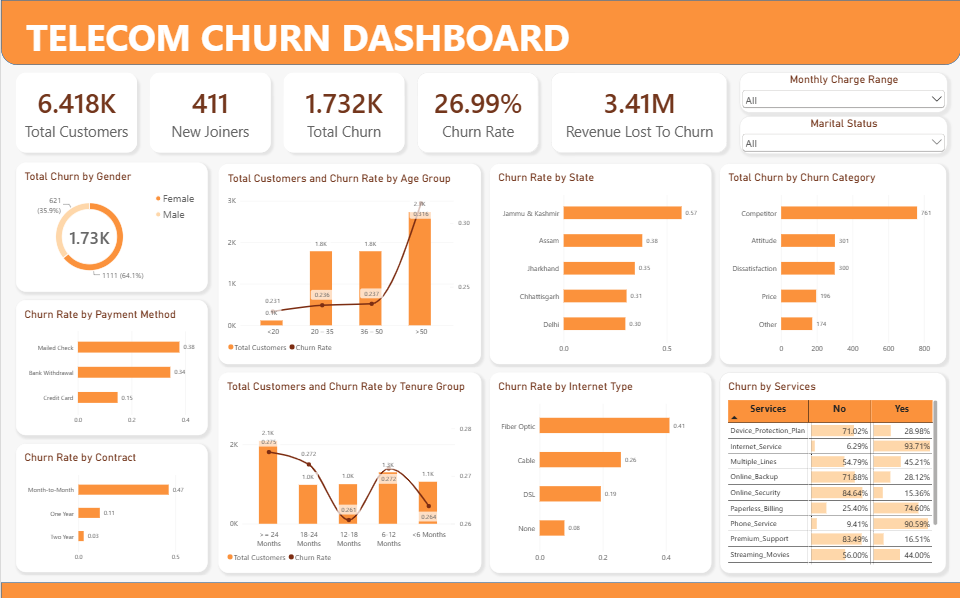

This screenshot's page, from the dashboard's own definition file:
{"tool":"powerbi","page":{"name":"Churn Summary","canvas":[1920,1200],"ordinal":0},"visuals":[{"type":"actionButton","box":[0,0,100,40],"z":0},{"type":"cardVisual","fields":{"Data":["Measures (2).New_Joiners"]},"box":[285,132.5,267,185],"z":1000},{"type":"cardVisual","fields":{"Data":["Measures (2).Total_Churn"]},"box":[552.5,132.5,267,185],"z":2000},{"type":"cardVisual","fields":{"Data":["Measures (2).Churn_Rate"]},"box":[820,132.5,267,185],"z":3000},{"type":"donutChart","fields":{"Category":["new_Churn.Gender"],"Y":["Measures (2).Total_Churn"]},"box":[30,325,383.3,258.3],"z":4000},{"type":"lineStackedColumnComboChart","fields":{"Category":["age_mapping.Age_Group"],"Y":["Measures (2).Total_Customers"],"Y2":["Measures (2).Churn_Rate"]},"box":[434.3,327.1,525,401],"z":5000},{"type":"clusteredBarChart","fields":{"Category":["new_Churn.Payment_Method"],"Y":["Measures (2).Churn_Rate"]},"box":[30,600,383,270],"z":6000},{"type":"lineStackedColumnComboChart","fields":{"Category":["tenure_mapping.Tenure_Group"],"Y":["Measures (2).Total_Customers"],"Y2":["Measures (2).Churn_Rate"]},"box":[434.3,744.3,525.7,401],"z":7000},{"type":"clusteredBarChart","fields":{"Category":["new_Churn.State"],"Y":["Measures (2).Churn_Rate"]},"box":[977.1,327.1,442.9,401],"z":8000},{"type":"clusteredBarChart","fields":{"Category":["new_Churn.Contract"],"Y":["Measures (2).Churn_Rate"]},"box":[30,888.6,382.9,257.1],"z":9000},{"type":"clusteredBarChart","fields":{"Category":["new_Churn.Churn_Category"],"Y":["Measures (2).Total_Churn"]},"box":[1438.6,327.1,452.9,401],"z":10000},{"type":"clusteredBarChart","fields":{"Category":["new_Churn.Internet_Type"],"Y":["Measures (2).Churn_Rate"]},"box":[977.1,744.3,442.9,401],"z":11000},{"type":"pivotTable","title":"Churn by Services ","fields":{"Columns":["service_mapping.Status"],"Rows":["service_mapping.Services"],"Values":["Sum(service_mapping.Churn Status)"]},"box":[1438.6,744.3,452.9,401.4],"z":12000},{"type":"cardVisual","fields":{"Data":["Measures (2).Total_Customers"]},"box":[17.5,132.5,267.5,185],"z":13000},{"type":"slicer","title":"  Monthly Charge Range","fields":{"Values":["new_Churn.Monthly Charge Status"]},"box":[1476.7,145.6,415.6,80],"z":14000},{"type":"shape","box":[0,0,1920,130],"z":15000},{"type":"slicer","title":"Marital Status","fields":{"Values":["new_Churn.Married"]},"box":[1476.7,232.2,415.6,75.6],"z":16000},{"type":"shape","box":[0,1165,1920,35],"z":17000},{"type":"textbox","title":"TELECOM CHURN DASHBOARD","box":[50,22.5,1097.5,107.5],"z":18000},{"type":"cardVisual","fields":{"Data":["Measures (2).Revenue Lost To Churn"]},"box":[1087.5,132.5,377.5,185],"z":18001}]}

Visuals, with their boxes in screenshot pixels (x1, y1, x2, y2), scaled from the page's 1920x1200 canvas onto the 960x598 screenshot:
actionButton: box=[0, 0, 50, 20]
cardVisual - Measures (2).New_Joiners: box=[142, 66, 276, 158]
cardVisual - Measures (2).Total_Churn: box=[276, 66, 410, 158]
cardVisual - Measures (2).Churn_Rate: box=[410, 66, 544, 158]
donutChart - new_Churn.Gender x Measures (2).Total_Churn: box=[15, 162, 207, 291]
lineStackedColumnComboChart - age_mapping.Age_Group x Measures (2).Total_Customers: box=[217, 163, 480, 363]
clusteredBarChart - new_Churn.Payment_Method x Measures (2).Churn_Rate: box=[15, 299, 206, 434]
lineStackedColumnComboChart - tenure_mapping.Tenure_Group x Measures (2).Total_Customers: box=[217, 371, 480, 571]
clusteredBarChart - new_Churn.State x Measures (2).Churn_Rate: box=[489, 163, 710, 363]
clusteredBarChart - new_Churn.Contract x Measures (2).Churn_Rate: box=[15, 443, 206, 571]
clusteredBarChart - new_Churn.Churn_Category x Measures (2).Total_Churn: box=[719, 163, 946, 363]
clusteredBarChart - new_Churn.Internet_Type x Measures (2).Churn_Rate: box=[489, 371, 710, 571]
"Churn by Services " pivotTable: box=[719, 371, 946, 571]
cardVisual - Measures (2).Total_Customers: box=[9, 66, 142, 158]
"  Monthly Charge Range" slicer: box=[738, 73, 946, 112]
shape: box=[0, 0, 959, 65]
"Marital Status" slicer: box=[738, 116, 946, 153]
shape: box=[0, 581, 959, 597]
"TELECOM CHURN DASHBOARD" textbox: box=[25, 11, 574, 65]
cardVisual - Measures (2).Revenue Lost To Churn: box=[544, 66, 732, 158]
